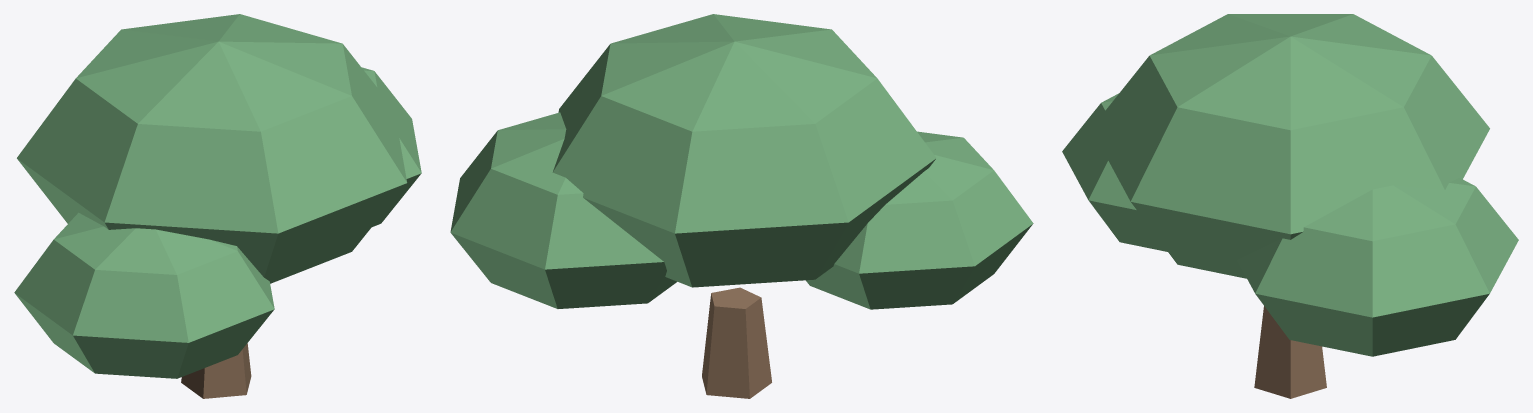
File: bush.glb
The picture shows the model from 3 angles, left to right: view 1: azimuth 30°, elevation 25°; view 2: azimuth 150°, elevation 25°; view 3: azimuth 270°, elevation 25°; orthographic projection.
Parts seen in each view (by area): view 1: bush; view 2: bush; view 3: bush.
Part boxes in pixels (x1=…): bush: x1=14, y1=14, x2=421, y2=398; bush: x1=450, y1=14, x2=1033, y2=398; bush: x1=1062, y1=14, x2=1518, y2=398.
Bounding box in the file's own units: 1.95 × 1.4 × 1.67.
